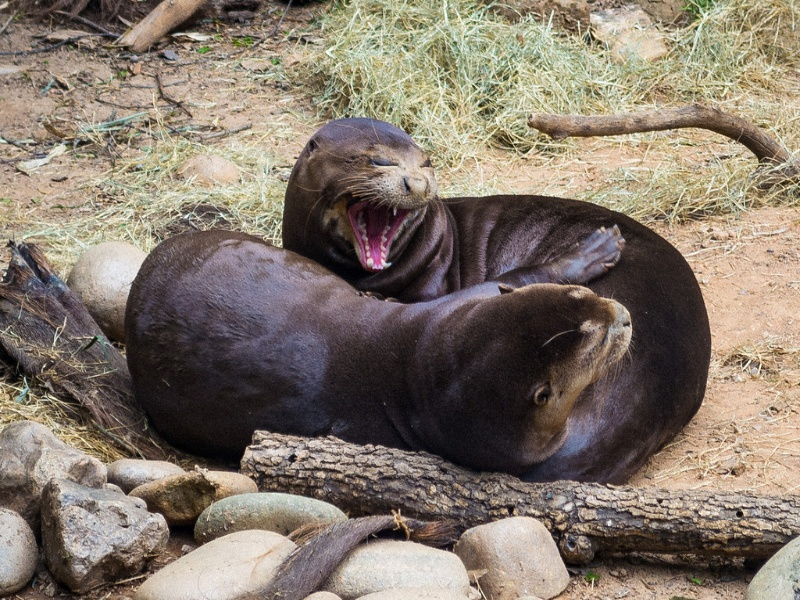minkish: (278, 118, 738, 495), (118, 225, 641, 483)
